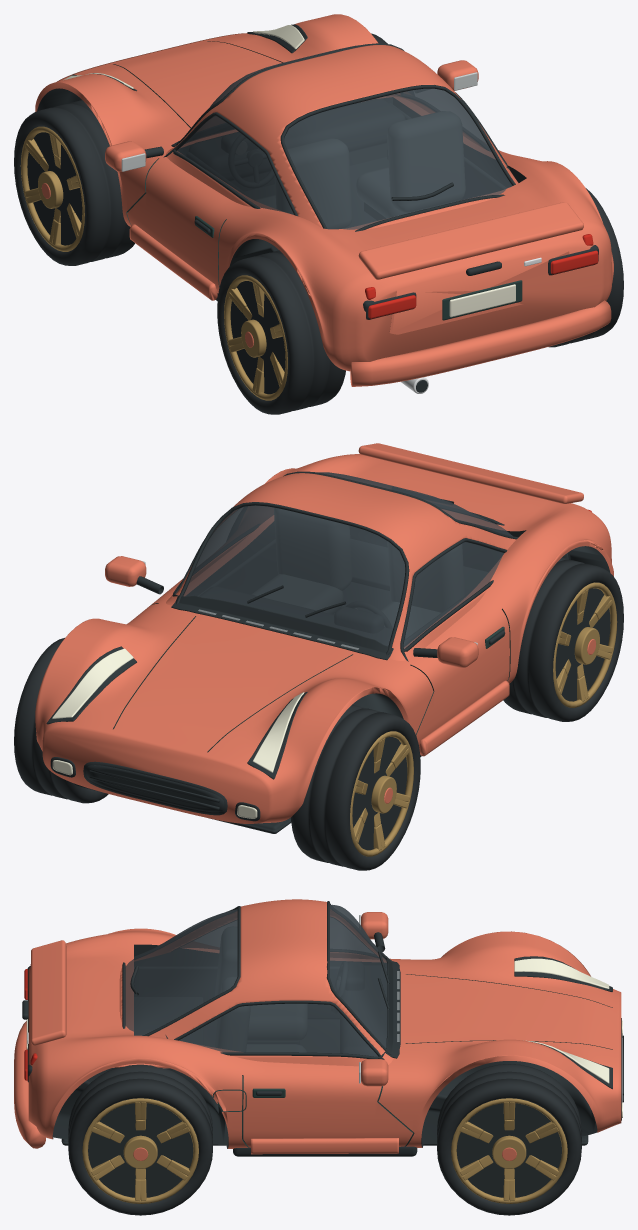
File: kaze.fbx
The picture shows the model from 3 angles, top to bottom: view 1: azimuth 30°, elevation 25°; view 2: azimuth 150°, elevation 25°; view 3: azimuth 270°, elevation 25°; orthographic projection. The views are drawn at different scales.
Parts seen in each view (by area): view 1: Body, Wheel_RL_Mesh, Wheel_FL_Mesh, Wheel_RR_Mesh; view 2: Body, Wheel_FL_Mesh, Wheel_RL_Mesh, Wheel_FR_Mesh; view 3: Body, Wheel_FR_Mesh, Wheel_RR_Mesh.
Boxes of the visible parts, x1,y1,x2,y2 form: Body: (35,14,613,393); Wheel_RL_Mesh: (217,250,345,414); Wheel_FL_Mesh: (14,100,134,265); Wheel_RR_Mesh: (549,188,623,347); Body: (35,443,613,833); Wheel_FL_Mesh: (291,704,420,870); Wheel_RL_Mesh: (503,557,623,721); Wheel_FR_Mesh: (14,638,108,803); Body: (14,899,623,1156); Wheel_FR_Mesh: (437,1064,581,1215); Wheel_RR_Mesh: (68,1064,212,1215).
Bounding box in the file's own units: 231 × 147 × 371.
